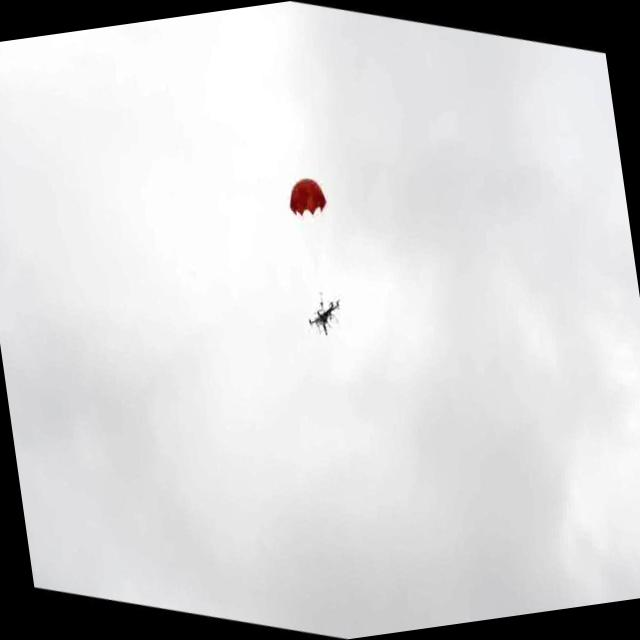drone: (300, 286, 348, 341)
